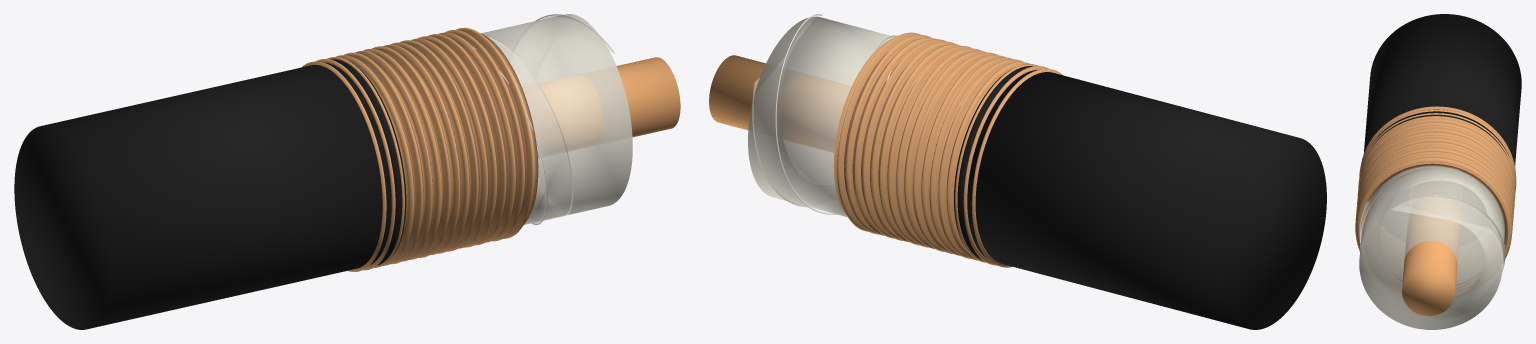
File: rf-ldf45.glb
The picture shows the model from 3 angles, left to right: view 1: azimuth 30°, elevation 25°; view 2: azimuth 150°, elevation 25°; view 3: azimuth 270°, elevation 25°; orthographic projection. The views are drawn at different scales.
Parts seen in each view (by area): view 1: black PE jacket body, corrugated copper shield, foam PE dielectric, solid center conductor continuous, dark groove shadow pass, surface PTFE tape wrap, jacket cut lip; view 2: black PE jacket body, corrugated copper shield, foam PE dielectric, solid center conductor continuous, surface PTFE tape wrap, dark groove shadow pass, jacket cut lip, subtle PTFE tape lap line; view 3: foam PE dielectric, black PE jacket body, corrugated copper shield, surface PTFE tape wrap, solid center conductor continuous, jacket cut lip, subtle PTFE tape lap line.
Boxes of the visible parts, left/top/right/bottom form: black PE jacket body: left=14, top=63, right=391, bottom=329; corrugated copper shield: left=301, top=27, right=538, bottom=271; foam PE dielectric: left=481, top=14, right=632, bottom=224; solid center conductor continuous: left=523, top=57, right=680, bottom=158; dark groove shadow pass: left=387, top=44, right=527, bottom=216; surface PTFE tape wrap: left=488, top=15, right=613, bottom=223; jacket cut lip: left=330, top=59, right=406, bottom=265; black PE jacket body: left=967, top=70, right=1326, bottom=329; corrugated copper shield: left=833, top=32, right=1063, bottom=267; foam PE dielectric: left=748, top=16, right=894, bottom=217; solid center conductor continuous: left=709, top=55, right=851, bottom=152; surface PTFE tape wrap: left=752, top=15, right=896, bottom=213; dark groove shadow pass: left=844, top=51, right=963, bottom=201; jacket cut lip: left=954, top=66, right=1032, bottom=259; subtle PTFE tape lap line: left=775, top=14, right=891, bottom=214; foam PE dielectric: left=1359, top=166, right=1504, bottom=329; black PE jacket body: left=1364, top=14, right=1521, bottom=165; corrugated copper shield: left=1355, top=106, right=1516, bottom=292; surface PTFE tape wrap: left=1360, top=167, right=1504, bottom=313; solid center conductor continuous: left=1402, top=197, right=1460, bottom=315; jacket cut lip: left=1371, top=111, right=1508, bottom=155; subtle PTFE tape lap line: left=1359, top=195, right=1505, bottom=271.
Bounding box in the file's own units: 6.69 × 2.11 × 2.24.
